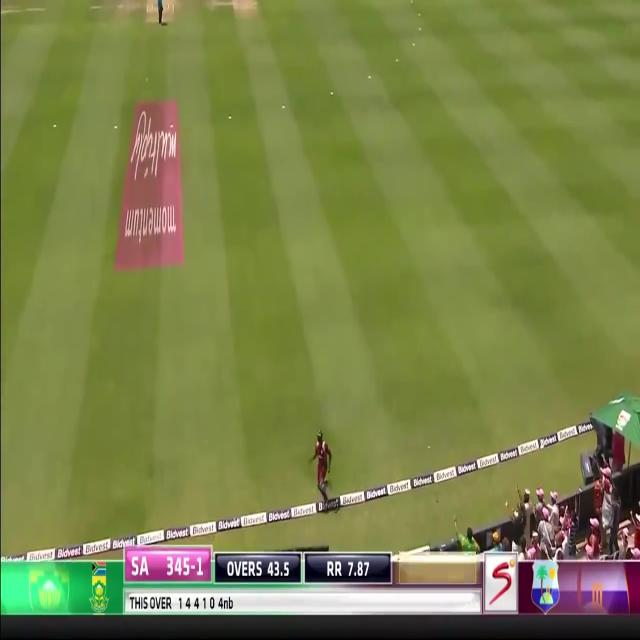Fielder: (307, 431, 338, 497)
